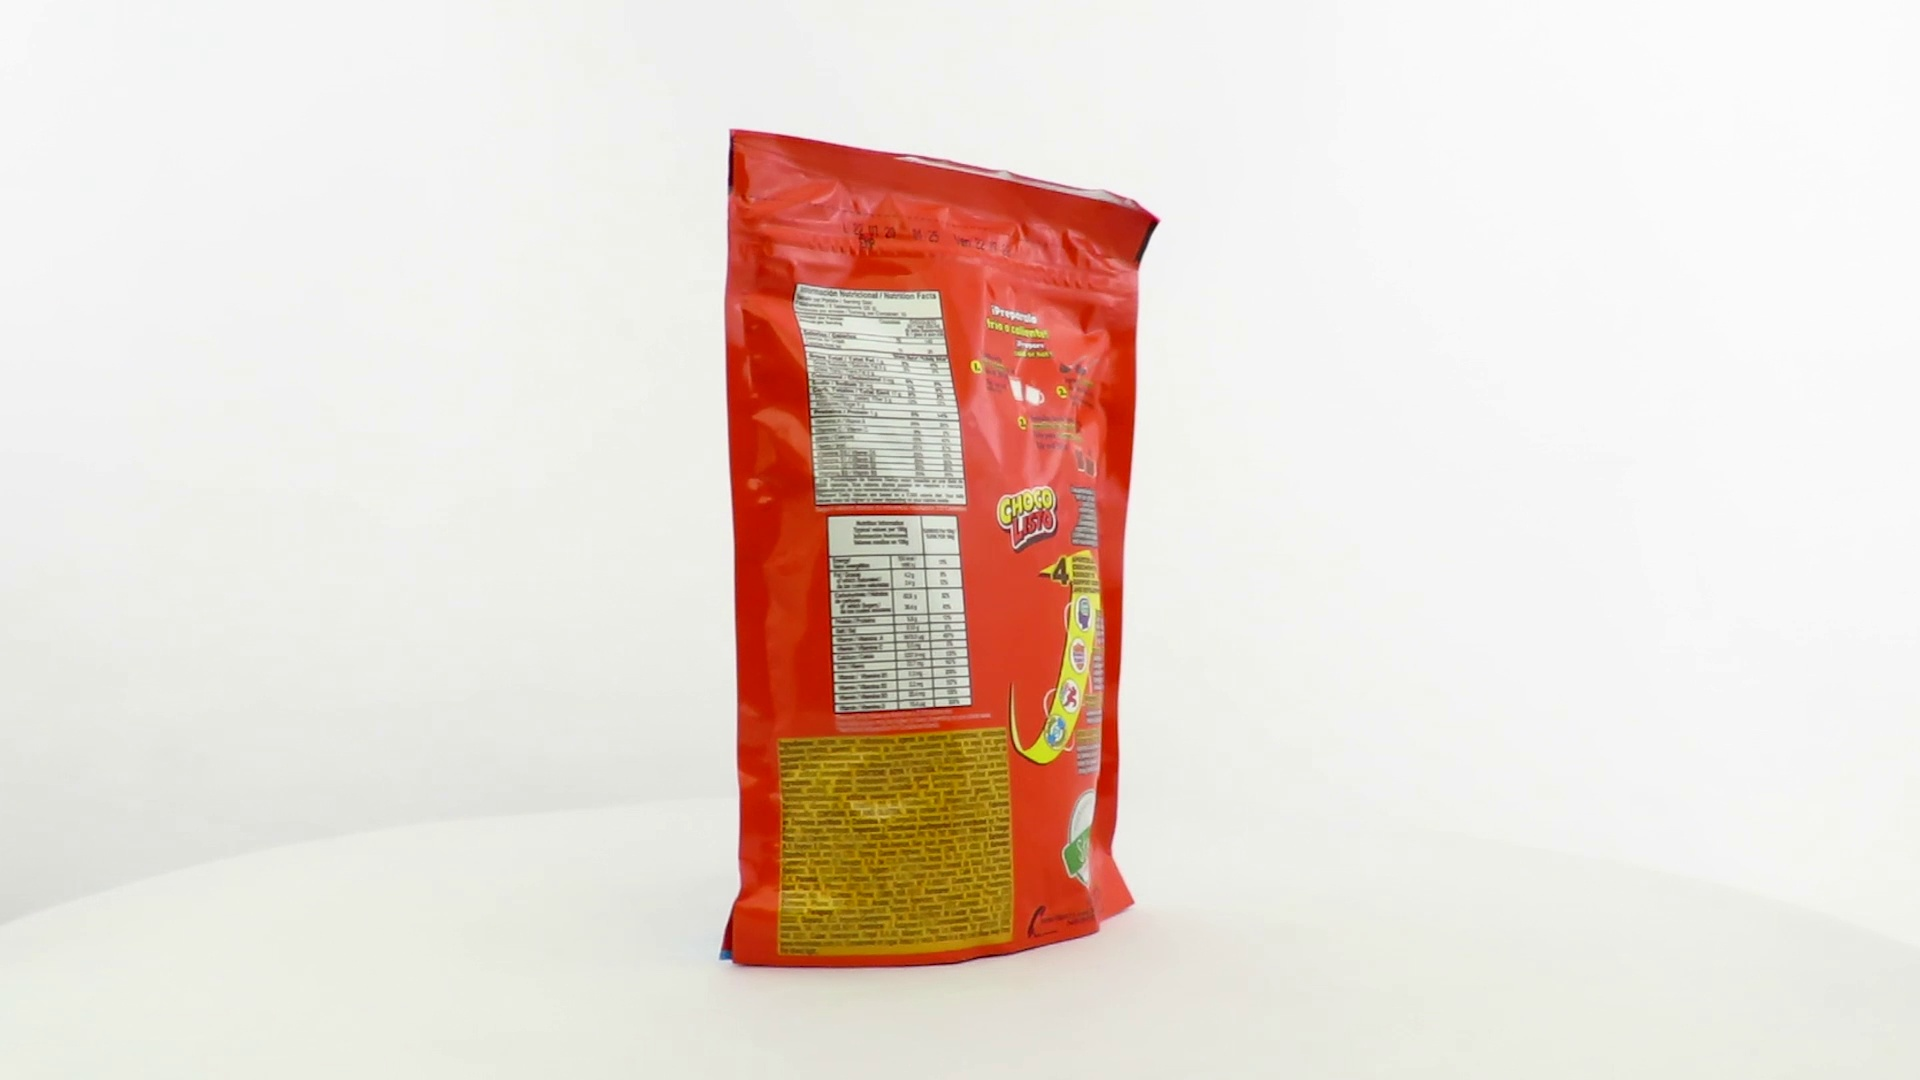COL0170104DYP20000: (713, 124, 1166, 975)
